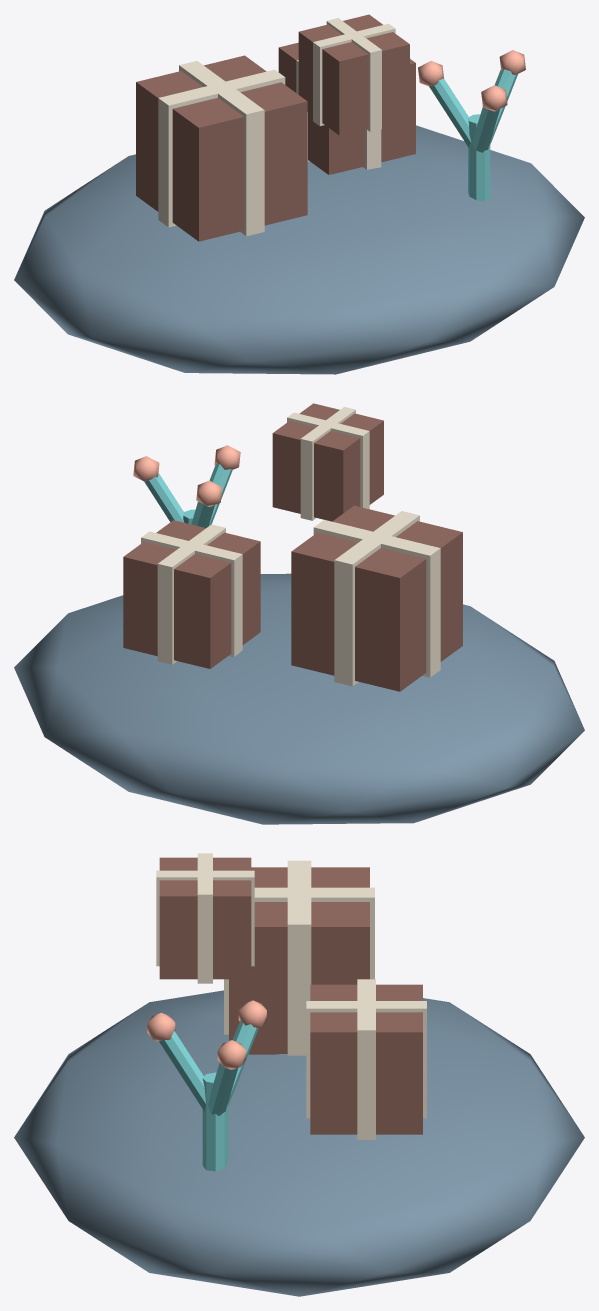
File: ruin-cache.glb
3 views of the same model, one above another, from view 1: azimuth 30°, elevation 25°; view 2: azimuth 150°, elevation 25°; view 3: azimuth 270°, elevation 25° (orthographic). The views are drawn at different scales.
Visible parts, largest first — view 1: Ancient reef, Supply crate, Supply crate.002, Supply crate.001, Crate band.001, Crate band, Crate band.005, Crate band.004, Coral stem, Coral crown.001, Coral crown.002, Crate band.003 (+4 smaller); view 2: Ancient reef, Supply crate, Supply crate.001, Supply crate.002, Crate band.001, Crate band, Crate band.003, Crate band.002, Crate band.005, Crate band.004, Coral crown, Coral polyp.001; view 3: Ancient reef, Supply crate.001, Supply crate, Supply crate.002, Crate band, Crate band.002, Crate band.001, Crate band.003, Crate band.004, Coral stem, Crate band.005, Coral crown.002 (+5 smaller).
Part boxes in pixels (left/top/right/bottom): Ancient reef: left=14, top=125, right=584, bottom=374; Supply crate: left=136, top=55, right=307, bottom=241; Supply crate.002: left=298, top=14, right=409, bottom=135; Supply crate.001: left=278, top=42, right=415, bottom=174; Crate band.001: left=179, top=61, right=264, bottom=236; Crate band: left=158, top=69, right=285, bottom=227; Crate band.005: left=326, top=18, right=381, bottom=131; Crate band.004: left=313, top=23, right=395, bottom=126; Coral stem: left=468, top=114, right=490, bottom=201; Coral crown.001: left=429, top=78, right=471, bottom=147; Coral crown.002: left=472, top=107, right=499, bottom=152; Crate band.003: left=363, top=129, right=381, bottom=169; Ancient reef: left=14, top=573, right=584, bottom=824; Supply crate: left=291, top=505, right=462, bottom=691; Supply crate.001: left=123, top=520, right=260, bottom=668; Supply crate.002: left=272, top=403, right=383, bottom=521; Crate band.001: left=334, top=511, right=419, bottom=686; Crate band: left=313, top=519, right=440, bottom=677; Crate band.003: left=157, top=524, right=225, bottom=664; Crate band.002: left=141, top=531, right=242, bottom=656; Crate band.005: left=300, top=407, right=355, bottom=520; Crate band.004: left=287, top=412, right=369, bottom=509; Coral crown: left=144, top=473, right=184, bottom=522; Coral polyp.001: left=196, top=480, right=222, bottom=506; Ancient reef: left=14, top=990, right=584, bottom=1296; Supply crate.001: left=310, top=984, right=422, bottom=1134; Supply crate: left=229, top=867, right=369, bottom=1054; Supply crate.002: left=159, top=857, right=251, bottom=979; Crate band: left=287, top=860, right=311, bottom=1055; Crate band.002: left=357, top=979, right=375, bottom=1139; Crate band.001: left=224, top=887, right=374, bottom=1034; Crate band.003: left=306, top=1001, right=426, bottom=1118; Crate band.004: left=197, top=853, right=212, bottom=983; Coral stem: left=202, top=1072, right=228, bottom=1171; Crate band.005: left=156, top=870, right=254, bottom=966; Coral crown.002: left=159, top=1031, right=205, bottom=1111.
Bounding box in the file's own units: 1.9 × 1.13 × 1.7.
